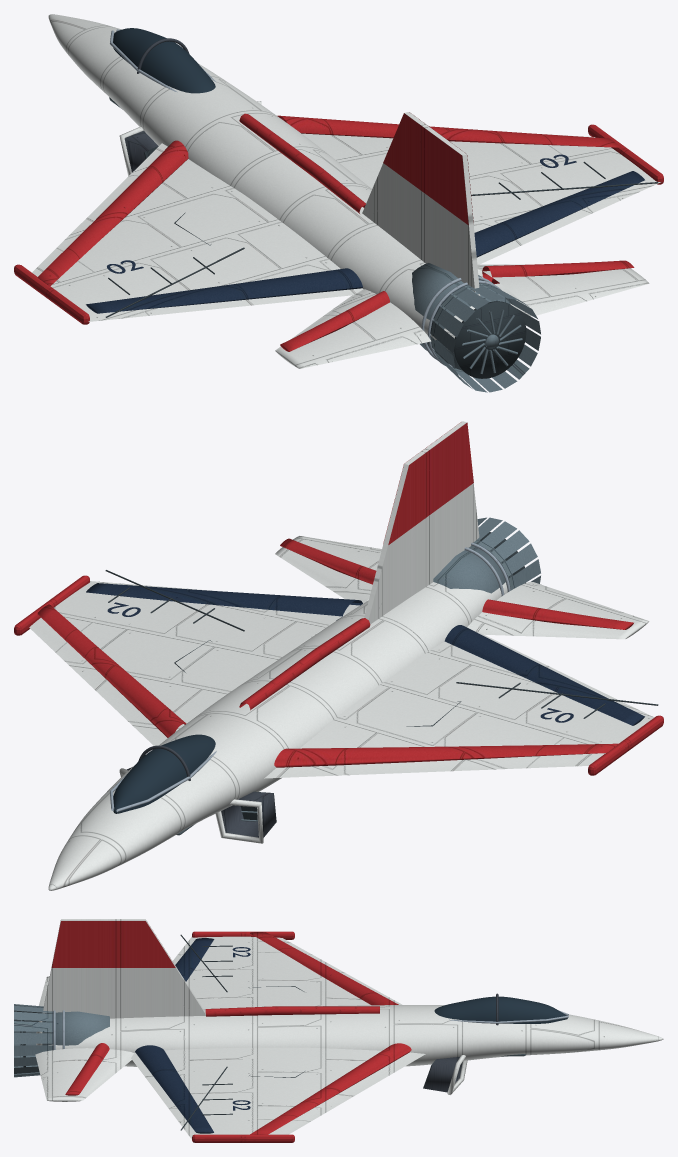
File: akari-high.glb
3 renders of one model, top to bottom at view 1: azimuth 30°, elevation 25°; view 2: azimuth 150°, elevation 25°; view 3: azimuth 270°, elevation 25°, orthographic. The views are drawn at different scales.
Visible parts, largest first — view 1: lacquer-surfaces, vermilion-surfaces, midnight-surfaces, titanium-surfaces, graphite-surfaces, Cockpit glass-surfaces, silver-surfaces, carbon-surfaces; view 2: lacquer-surfaces, vermilion-surfaces, midnight-surfaces, titanium-surfaces, Cockpit glass-surfaces, carbon-surfaces, graphite-surfaces, silver-surfaces; view 3: lacquer-surfaces, vermilion-surfaces, titanium-surfaces, midnight-surfaces, Cockpit glass-surfaces, carbon-surfaces, graphite-surfaces, silver-surfaces.
Boxes of the visible parts, x1,y1,x2,y2 form: lacquer-surfaces: [32, 14, 660, 368]; vermilion-surfaces: [14, 112, 663, 351]; midnight-surfaces: [86, 154, 644, 313]; titanium-surfaces: [109, 97, 540, 392]; graphite-surfaces: [105, 146, 658, 378]; Cockpit glass-surfaces: [113, 28, 215, 93]; silver-surfaces: [110, 29, 500, 367]; carbon-surfaces: [124, 38, 189, 172]; lacquer-surfaces: [29, 421, 654, 890]; vermilion-surfaces: [14, 422, 663, 775]; midnight-surfaces: [86, 583, 644, 725]; titanium-surfaces: [176, 517, 540, 835]; Cockpit glass-surfaces: [113, 734, 215, 813]; carbon-surfaces: [126, 745, 276, 837]; graphite-surfaces: [105, 532, 658, 822]; silver-surfaces: [110, 542, 510, 812]; lacquer-surfaces: [35, 919, 663, 1139]; vermilion-surfaces: [51, 921, 411, 1142]; titanium-surfaces: [14, 1004, 525, 1077]; midnight-surfaces: [135, 938, 250, 1133]; Cockpit glass-surfaces: [434, 996, 567, 1023]; carbon-surfaces: [424, 993, 498, 1092]; graphite-surfaces: [23, 934, 436, 1130]; silver-surfaces: [53, 1010, 568, 1050].
Size of the model in its own units: 6.86 by 2.39 by 9.15.
Materials: 8 (7 with a texture image).
